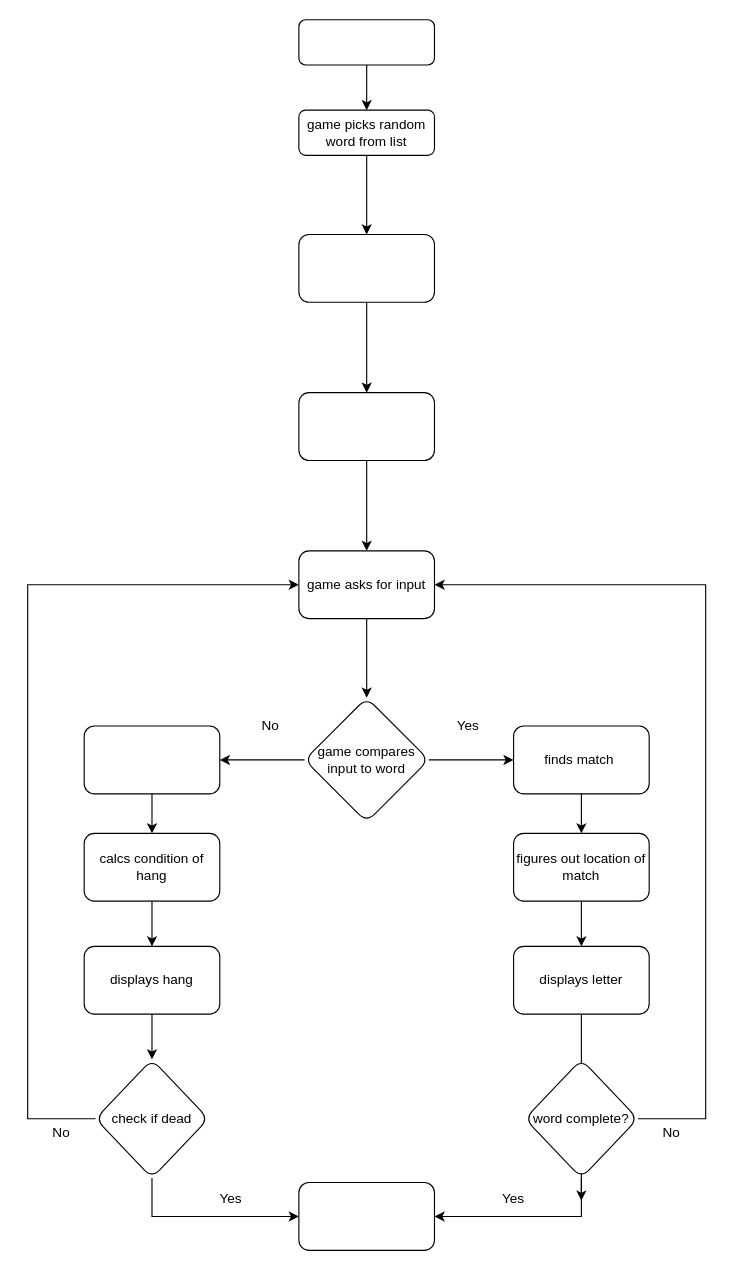
This 735x1270 diagram has some shape labels left out. Each missing label, with the centre of its shape:
"game clacs number of letters in word" belongs at pixel 366 267.
"game displays number of letters to guess" belongs at pixel 366 426.
"game over" belongs at pixel 366 1215.
"no match" belongs at pixel 151 759.
"start game" belongs at pixel 366 42.
